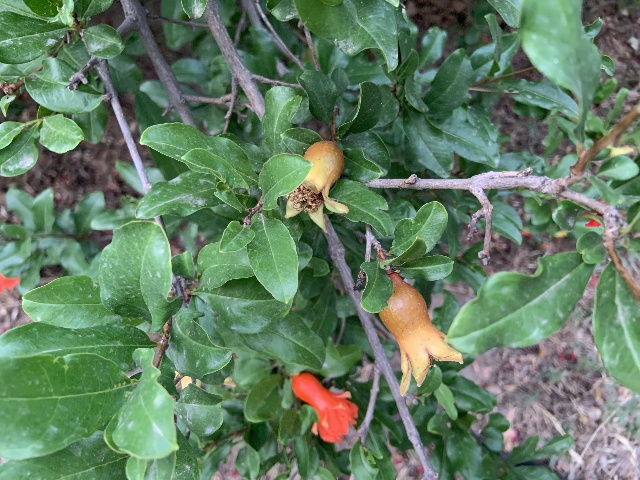early-fruit: (378, 272, 463, 393), (283, 140, 349, 233)
flower: (292, 372, 359, 442)
